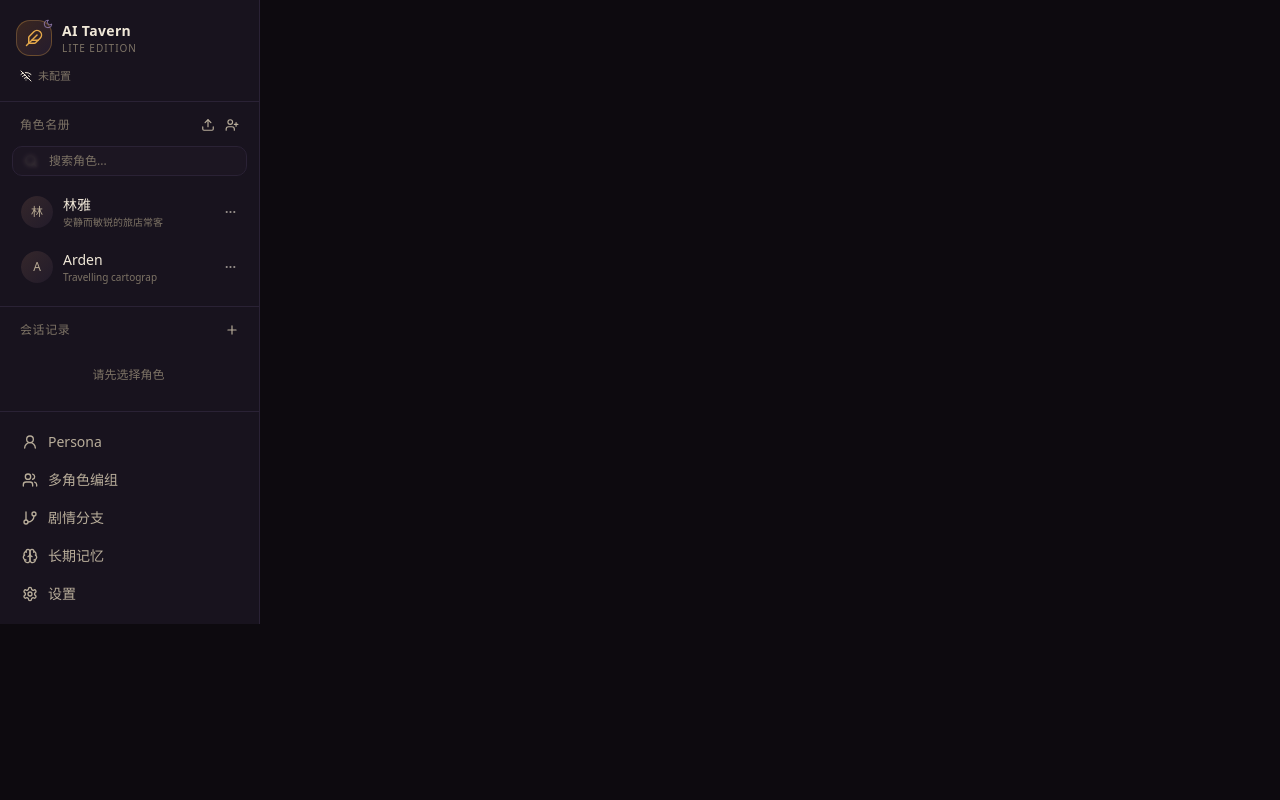
Test: Sidebar › opens the new-session wizard even when no character was preselected
Expected: the button with aria-label "选择角色 林雅" is shown, top-left (12, 186), bottom-right (245, 238)
Click the button titled "新建对话": (232, 330) top-left (221, 318), bottom-right (243, 340)
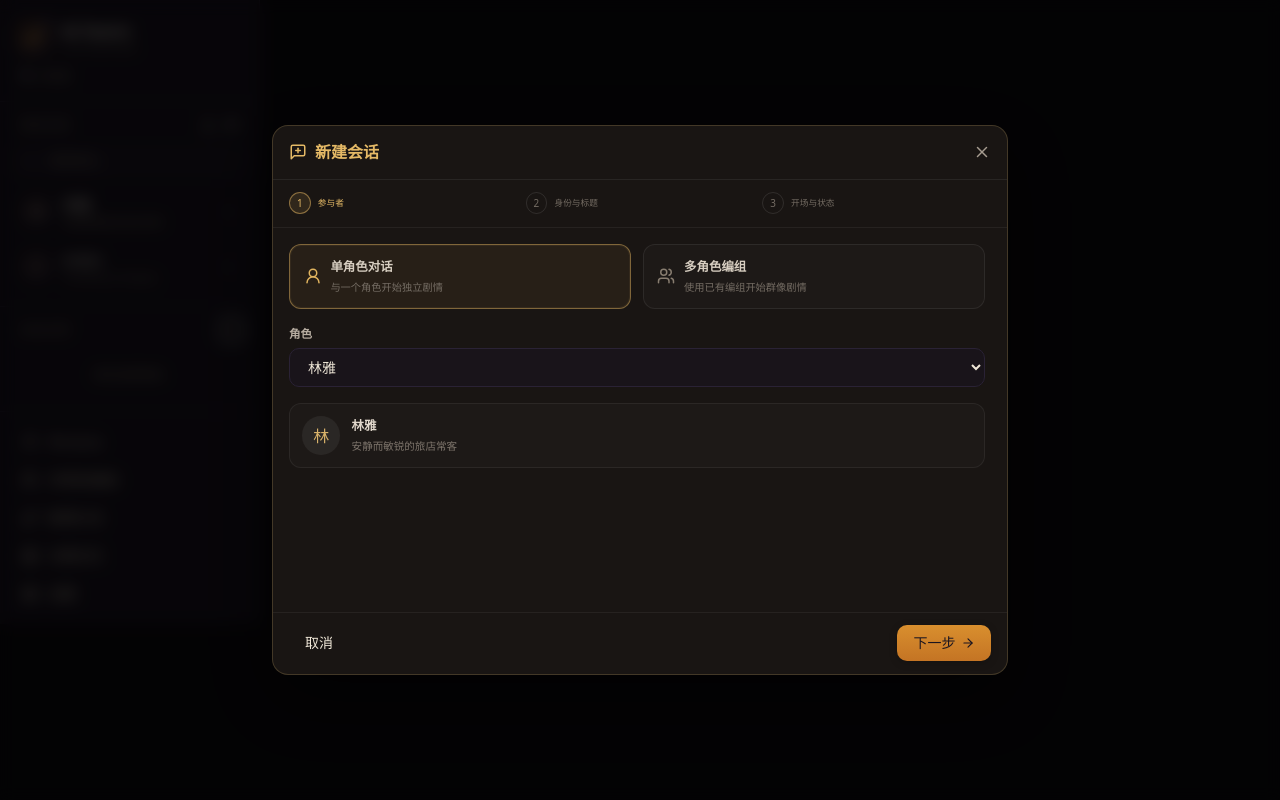
Result: the dialog "新建会话" is shown at top-left (272, 125), bottom-right (1008, 675)
